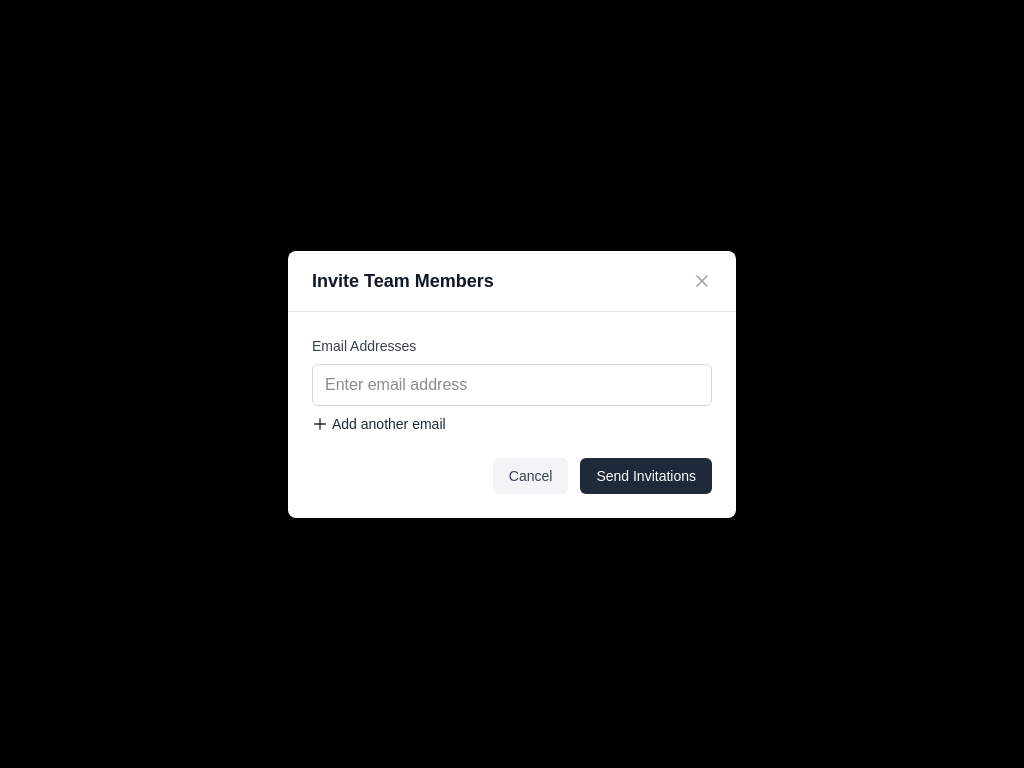
Test case: InviteModal › should allow adding multiple email fields
Expected: the number of fields with placeholder "Enter email address" is 1, [312, 364, 712, 406]
# Click add another email
Click the button "Add another email": (379, 424) [312, 414, 446, 434]
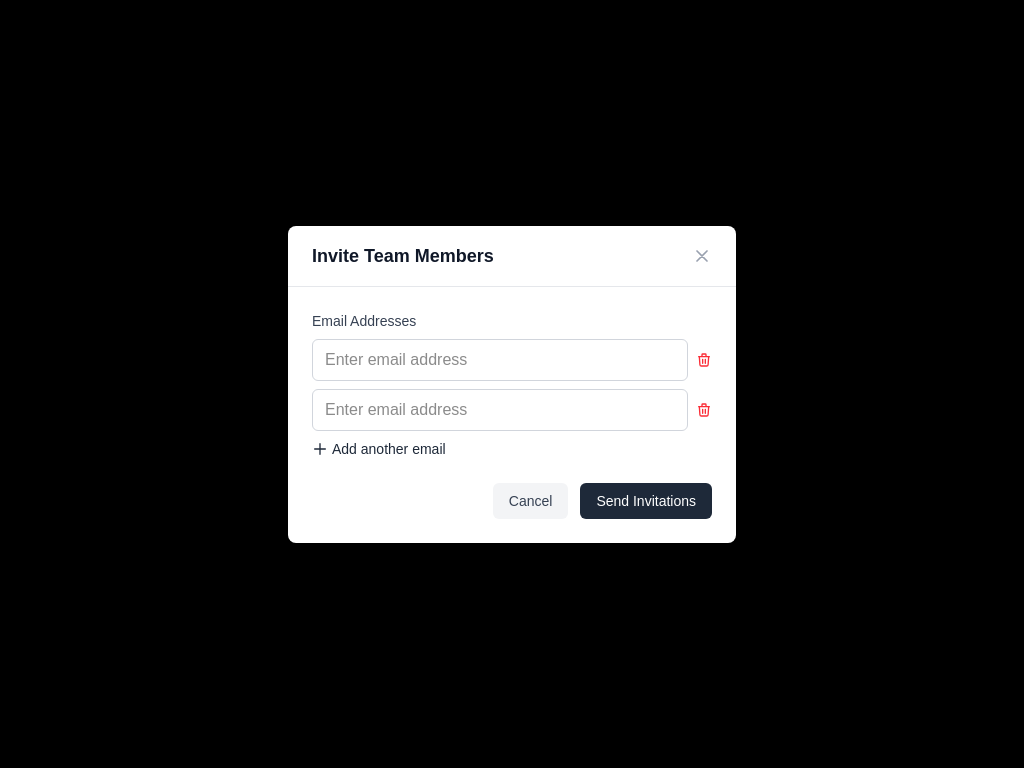
Expected: the number of fields with placeholder "Enter email address" is 2, [312, 338, 688, 380]; [312, 388, 688, 430]
